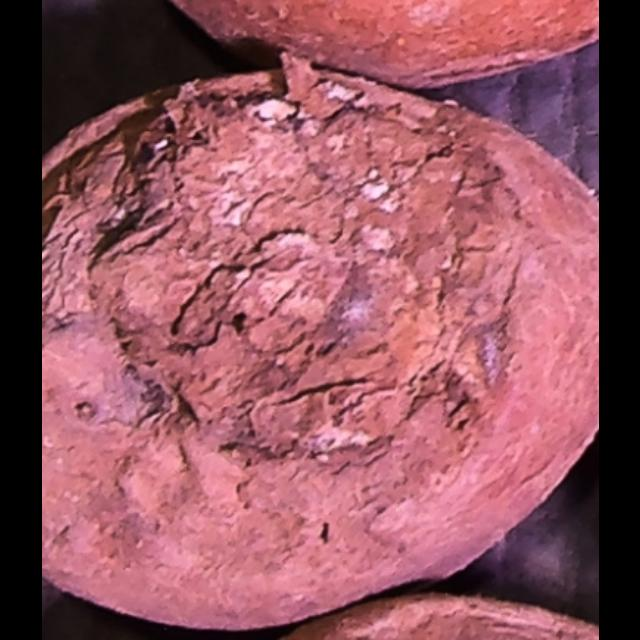Damaged potato: (45, 48, 597, 630)
